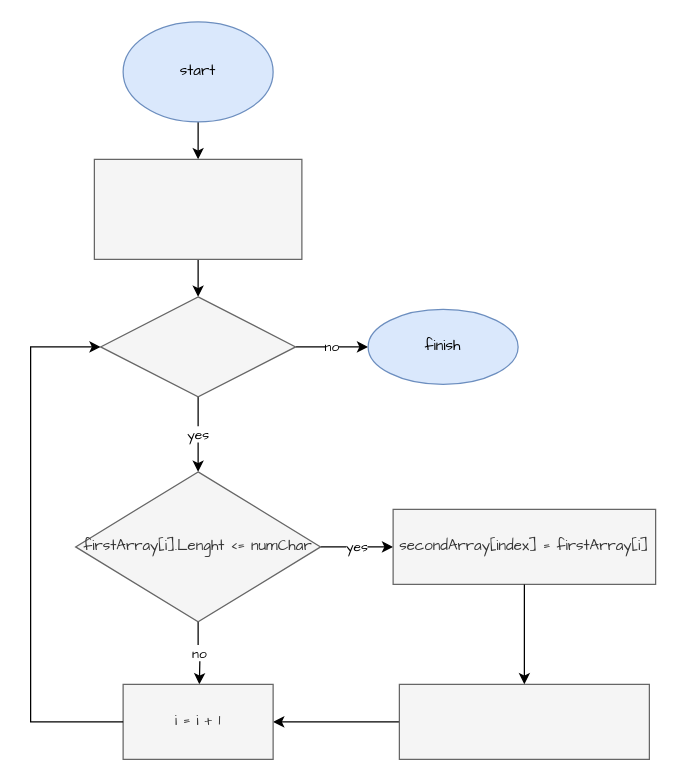
Some shapes in this 678 by 781 pixel diagram are drawn without their labels. Here are the shapes that lost their labels. From the top down, the centre of each, then its label:
the point at 197,208: int[] firstArray int[] secondArray index = 0 i = 0 numChar = 3
the point at 197,346: i < firstArray.Lenght
the point at 523,721: index = index + 1
